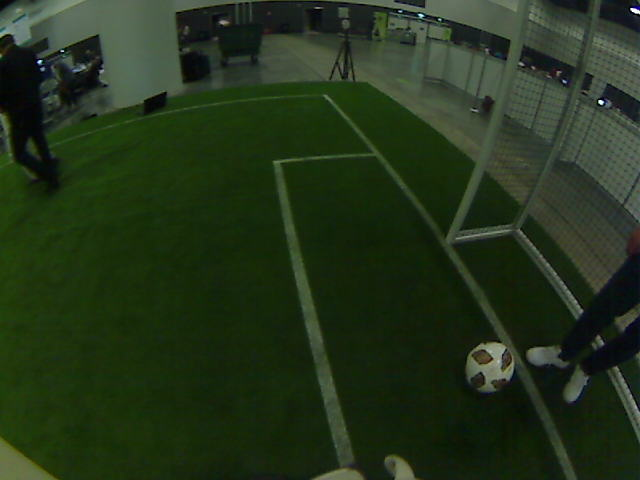ball: (467, 344, 507, 384)
goalpost: (427, 181, 467, 241)
